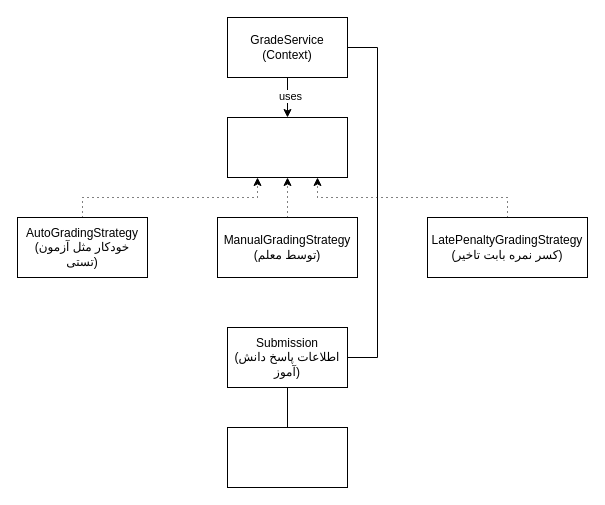
Image size: 605x505. Some labels were removed from this diagram. Here are the shapes that lost their labels. From the top down, the box of each, then its label:
(226, 116, 348, 178): <<interface>> GradingStrategy
(226, 426, 348, 488): Grade (نتیجه نهایی نمره)
